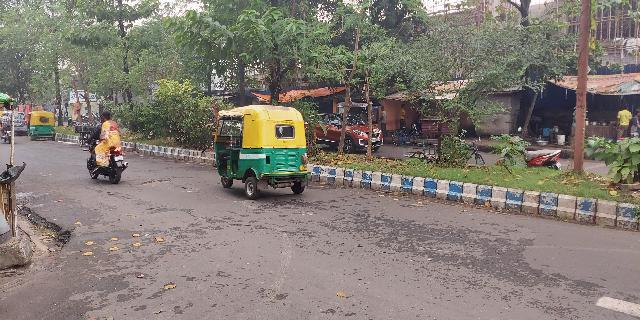Autorickshaw: (216, 108, 312, 200), (27, 113, 57, 137)
Motorbike: (85, 111, 125, 189)
